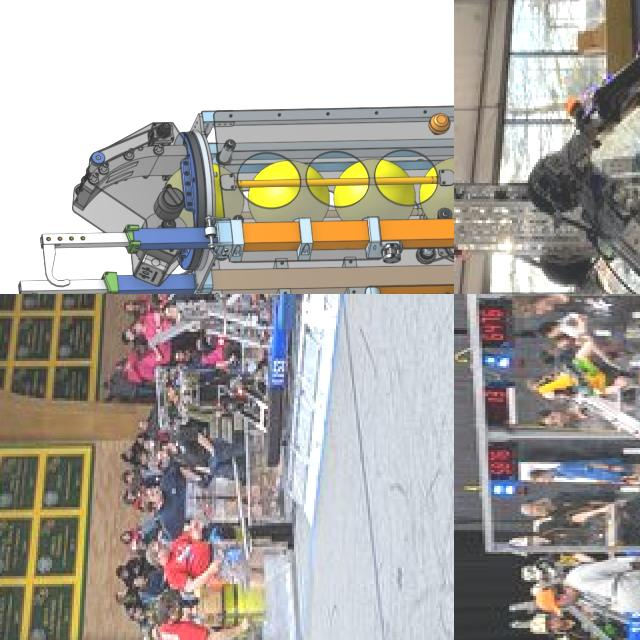FRC-Robots: (22, 0, 454, 294), (454, 0, 640, 294), (490, 344, 640, 613), (173, 294, 322, 364)
